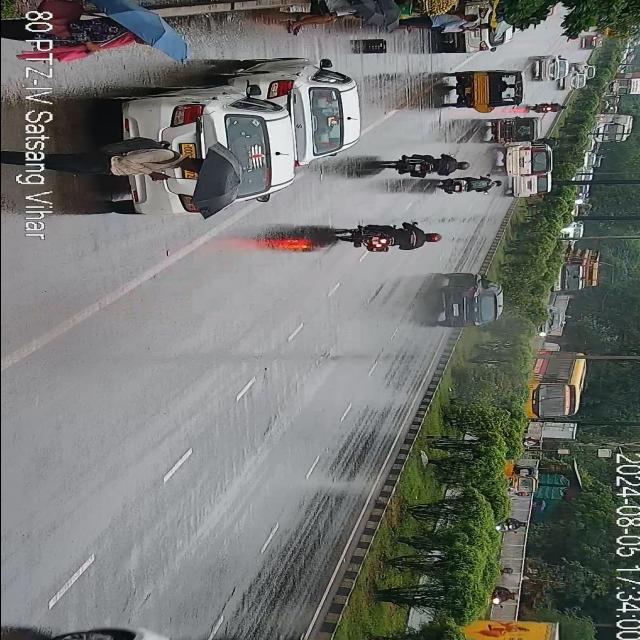2-wheelers: (340, 212, 442, 260), (388, 150, 472, 184), (442, 176, 503, 200), (488, 584, 522, 610), (490, 519, 526, 537), (529, 100, 561, 116)
auto: (452, 66, 522, 112), (488, 118, 534, 148), (501, 459, 536, 498)
bus: (521, 355, 585, 419)
car: (109, 70, 292, 218), (248, 60, 358, 164), (430, 271, 500, 329), (443, 9, 507, 61), (502, 148, 550, 204), (12, 628, 200, 640), (534, 304, 566, 338), (532, 53, 566, 84), (560, 66, 584, 96)
pedestrian: (62, 140, 210, 184), (290, 0, 363, 35), (402, 12, 477, 32)
truck: (452, 615, 567, 640), (543, 248, 604, 292)
